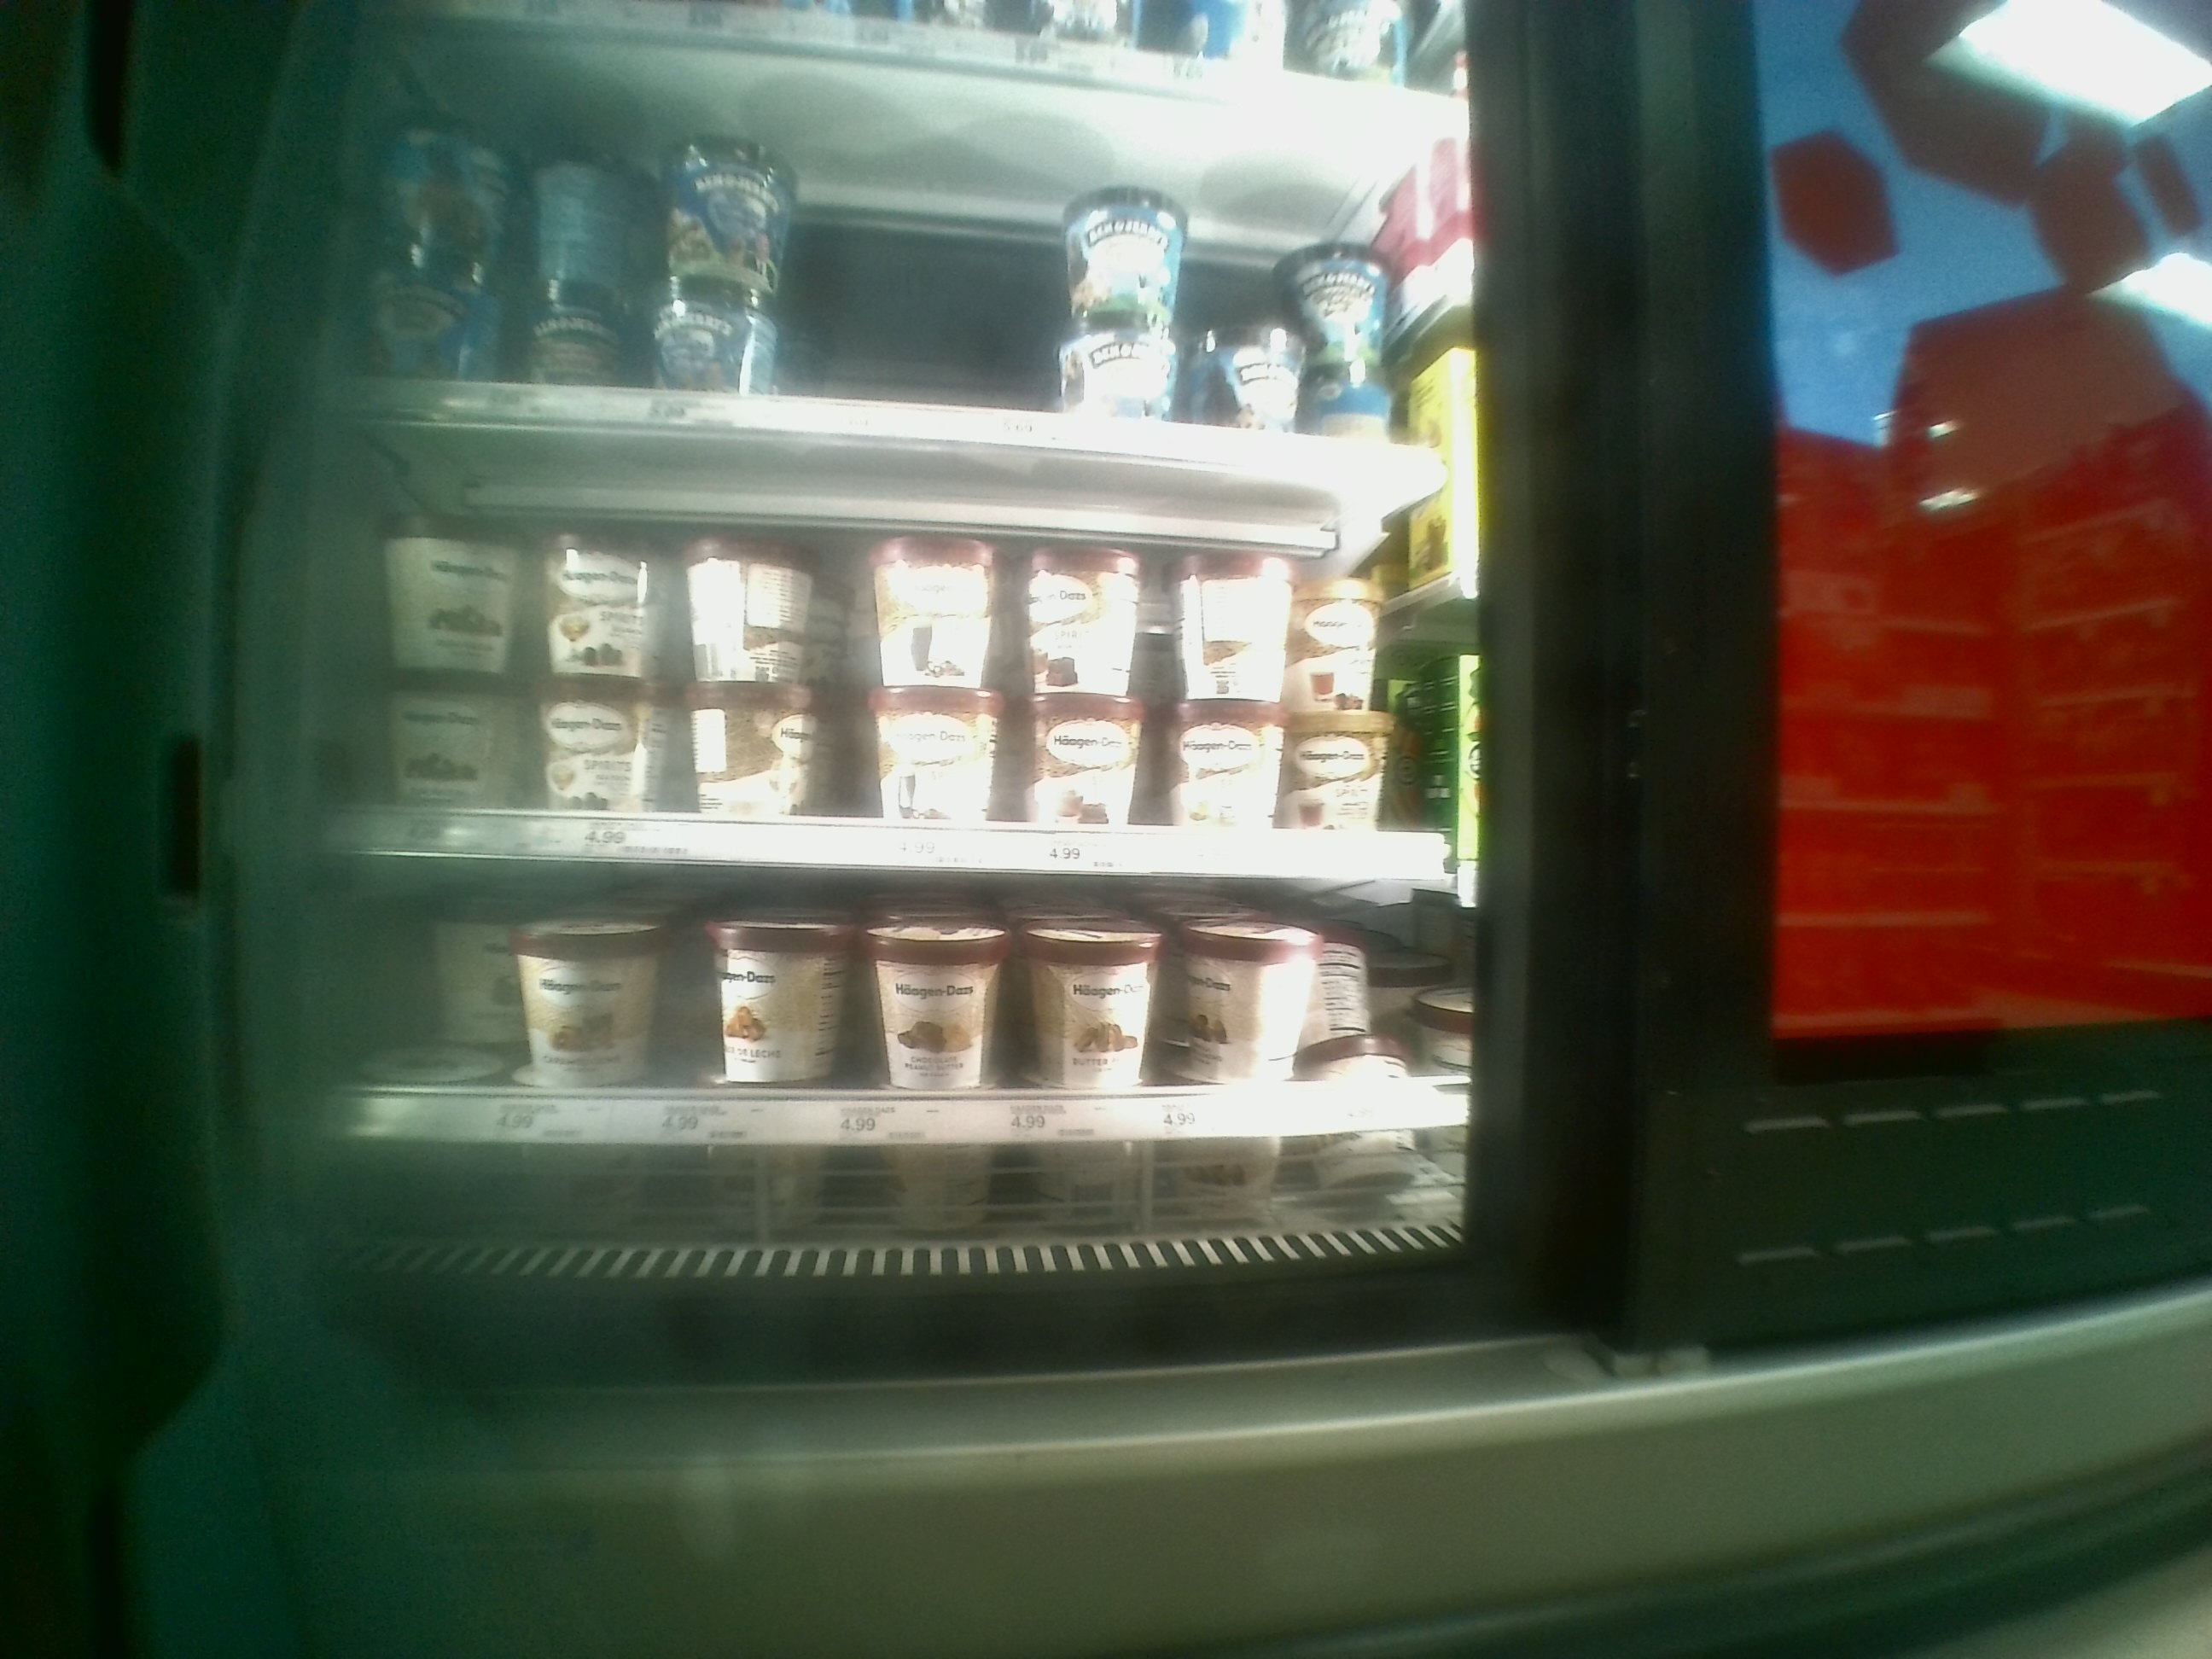ice-cream-shelf: (320, 422, 1451, 868), (331, 864, 1470, 1148)
